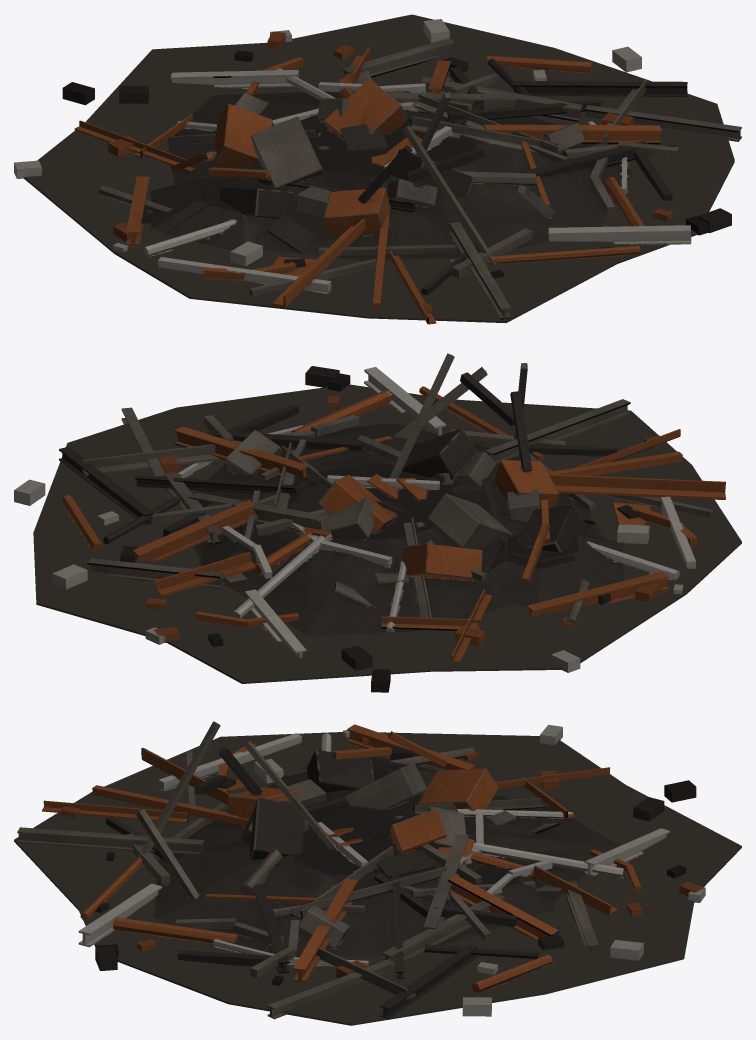
File: scrap_heap_4.fbx
3 renders of one model, top to bottom at view 1: azimuth 30°, elevation 25°; view 2: azimuth 150°, elevation 25°; view 3: azimuth 270°, elevation 25°, orthographic. The views are drawn at different scales.
Parts seen in each view (by area): view 1: base_bar; view 2: base_bar; view 3: base_bar.
Boxes of the visible parts, left/top/right/bottom form: base_bar: left=14, top=14, right=741, bottom=324; base_bar: left=14, top=353, right=741, bottom=692; base_bar: left=14, top=721, right=741, bottom=1025.
Bounding box in the file's own units: 2725 × 753 × 2869.
2 materials, 2 textured.
